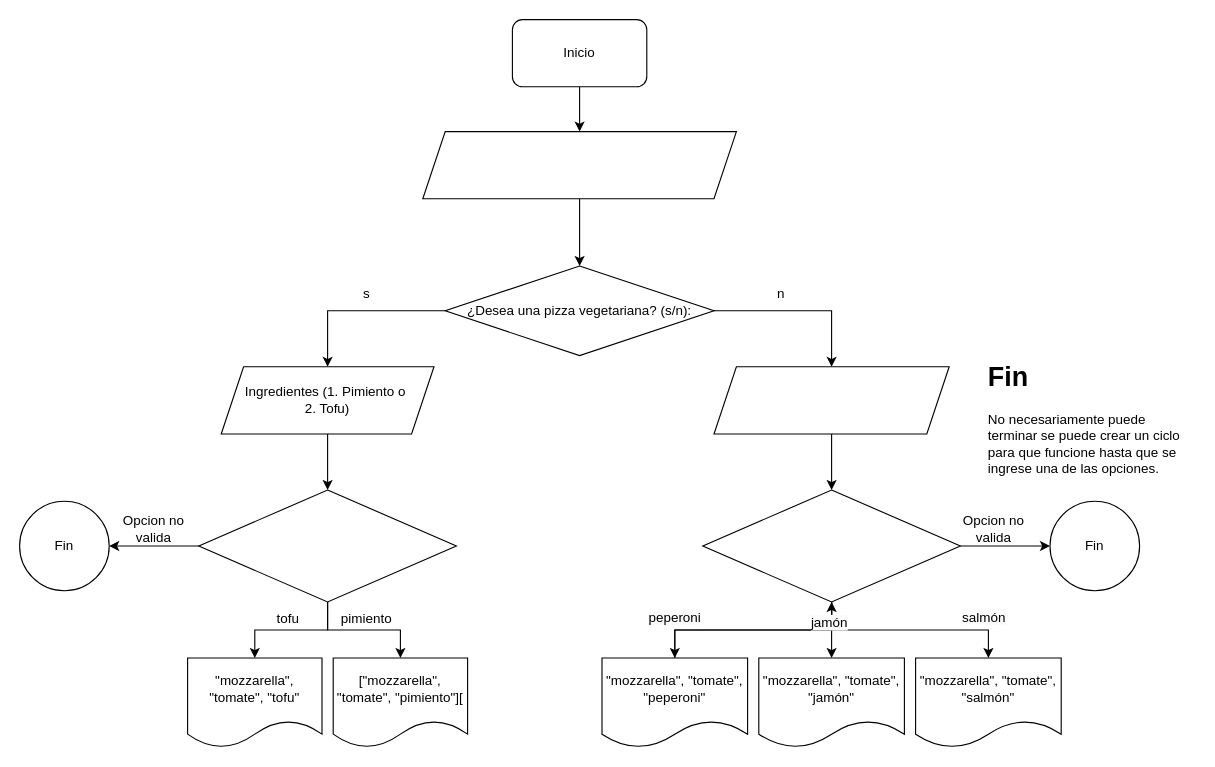
Image size: 1215x767. Some labels were removed from this diagram. Here are the shapes that lost their labels. From the top down, the centre of each, then its label:
At [579,164]: "Tipo de pizza".
At [831,400]: "Ingredientes (1. Peperoni, 2. Jamón, 3. Salmón)".
At [327,545]: "Los ingredientes vegetarianos disponibles son".
At [831,545]: "Los ingredientes no vegetarianos disponibles son".
